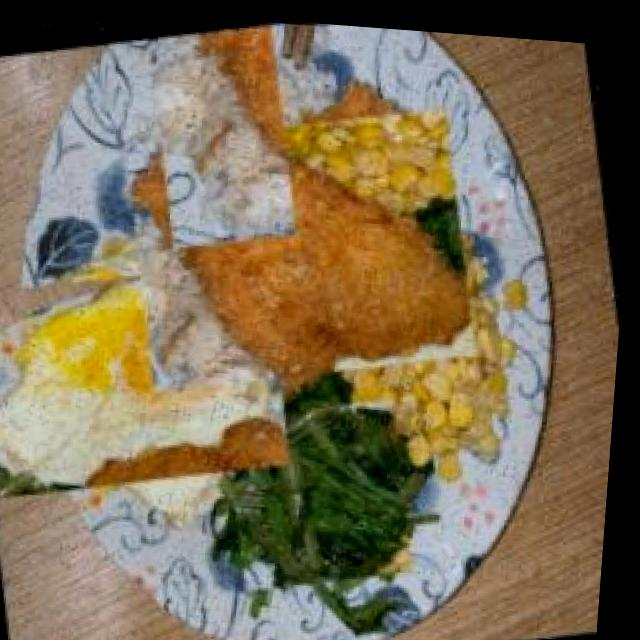fried_chicken: (125, 67, 485, 426)
fried_eggs: (0, 218, 293, 539)
rice: (117, 26, 329, 237)
water_spinach: (217, 383, 432, 597)
